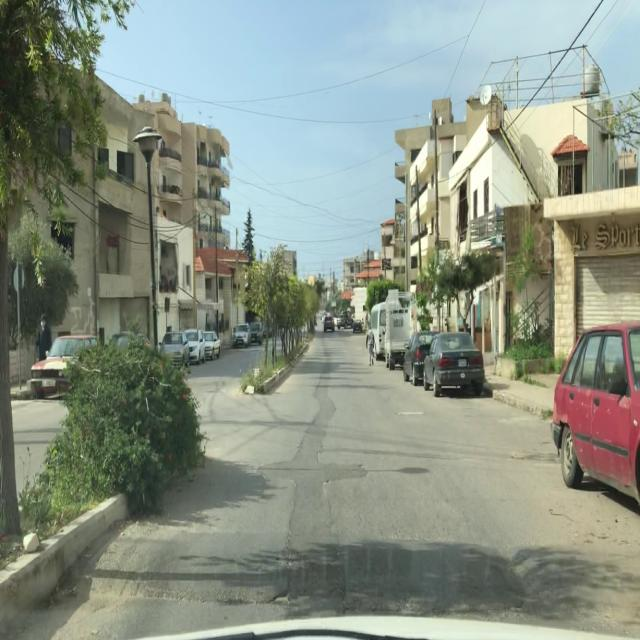Pothole: (393, 411, 425, 416)
